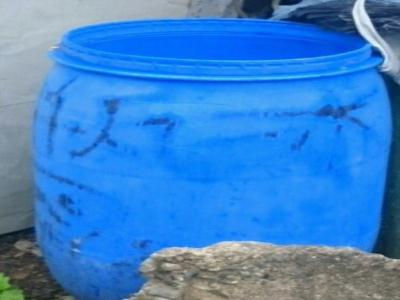bucket: (31, 12, 390, 296)
